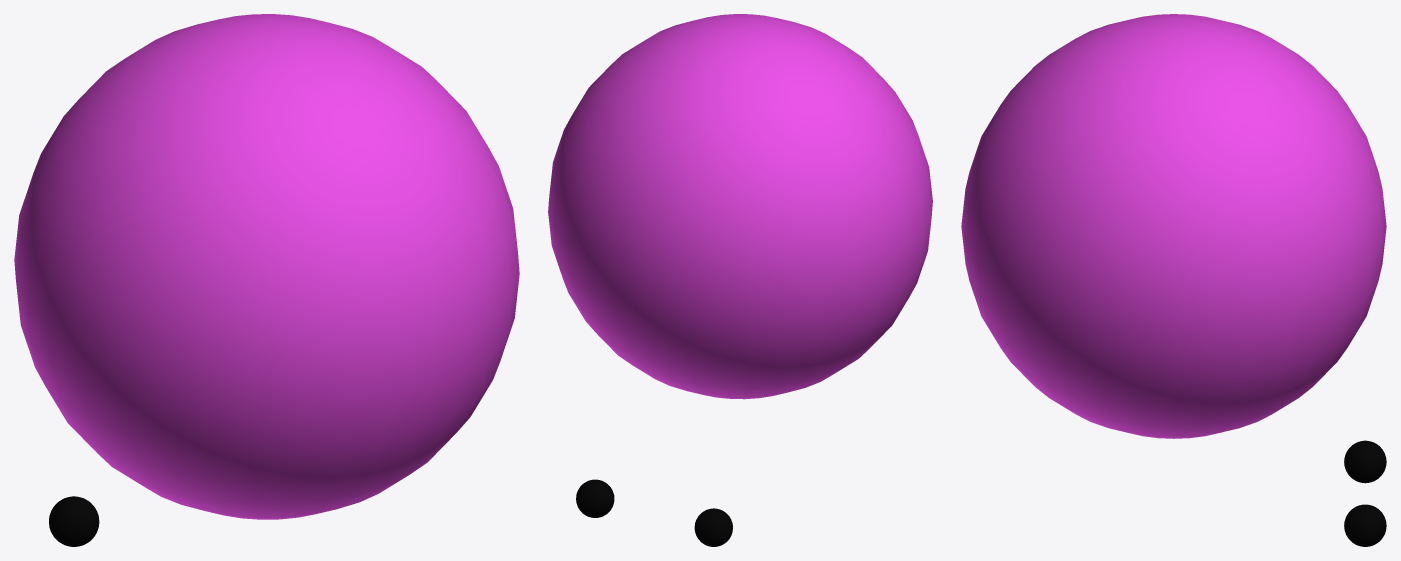
Rendered from john.glb.
The picture shows the model from 3 angles, left to right: view 1: azimuth 30°, elevation 25°; view 2: azimuth 150°, elevation 25°; view 3: azimuth 270°, elevation 25°; orthographic projection. The views are drawn at different scales.
Visible parts, largest first — view 1: Sphere, Sphere.002; view 2: Sphere, Sphere.001, Sphere.002; view 3: Sphere, Sphere.001, Sphere.002.
Part boxes in pixels (bbox=[...]): Sphere: bbox=[14, 14, 519, 519]; Sphere.002: bbox=[49, 496, 99, 546]; Sphere: bbox=[548, 14, 932, 399]; Sphere.001: bbox=[576, 479, 614, 517]; Sphere.002: bbox=[694, 508, 732, 546]; Sphere: bbox=[961, 14, 1386, 438]; Sphere.001: bbox=[1344, 504, 1386, 546]; Sphere.002: bbox=[1344, 440, 1386, 483].
Bounding box in the file's own units: 2 × 2.49 × 2.
